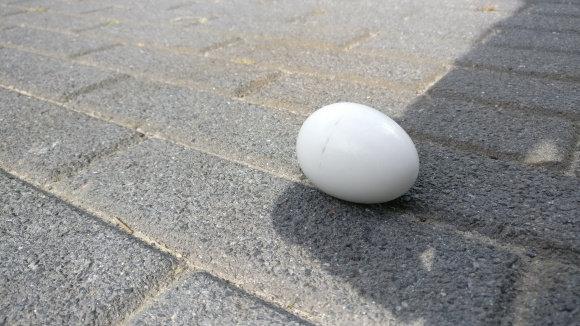egg: (297, 100, 420, 204)
